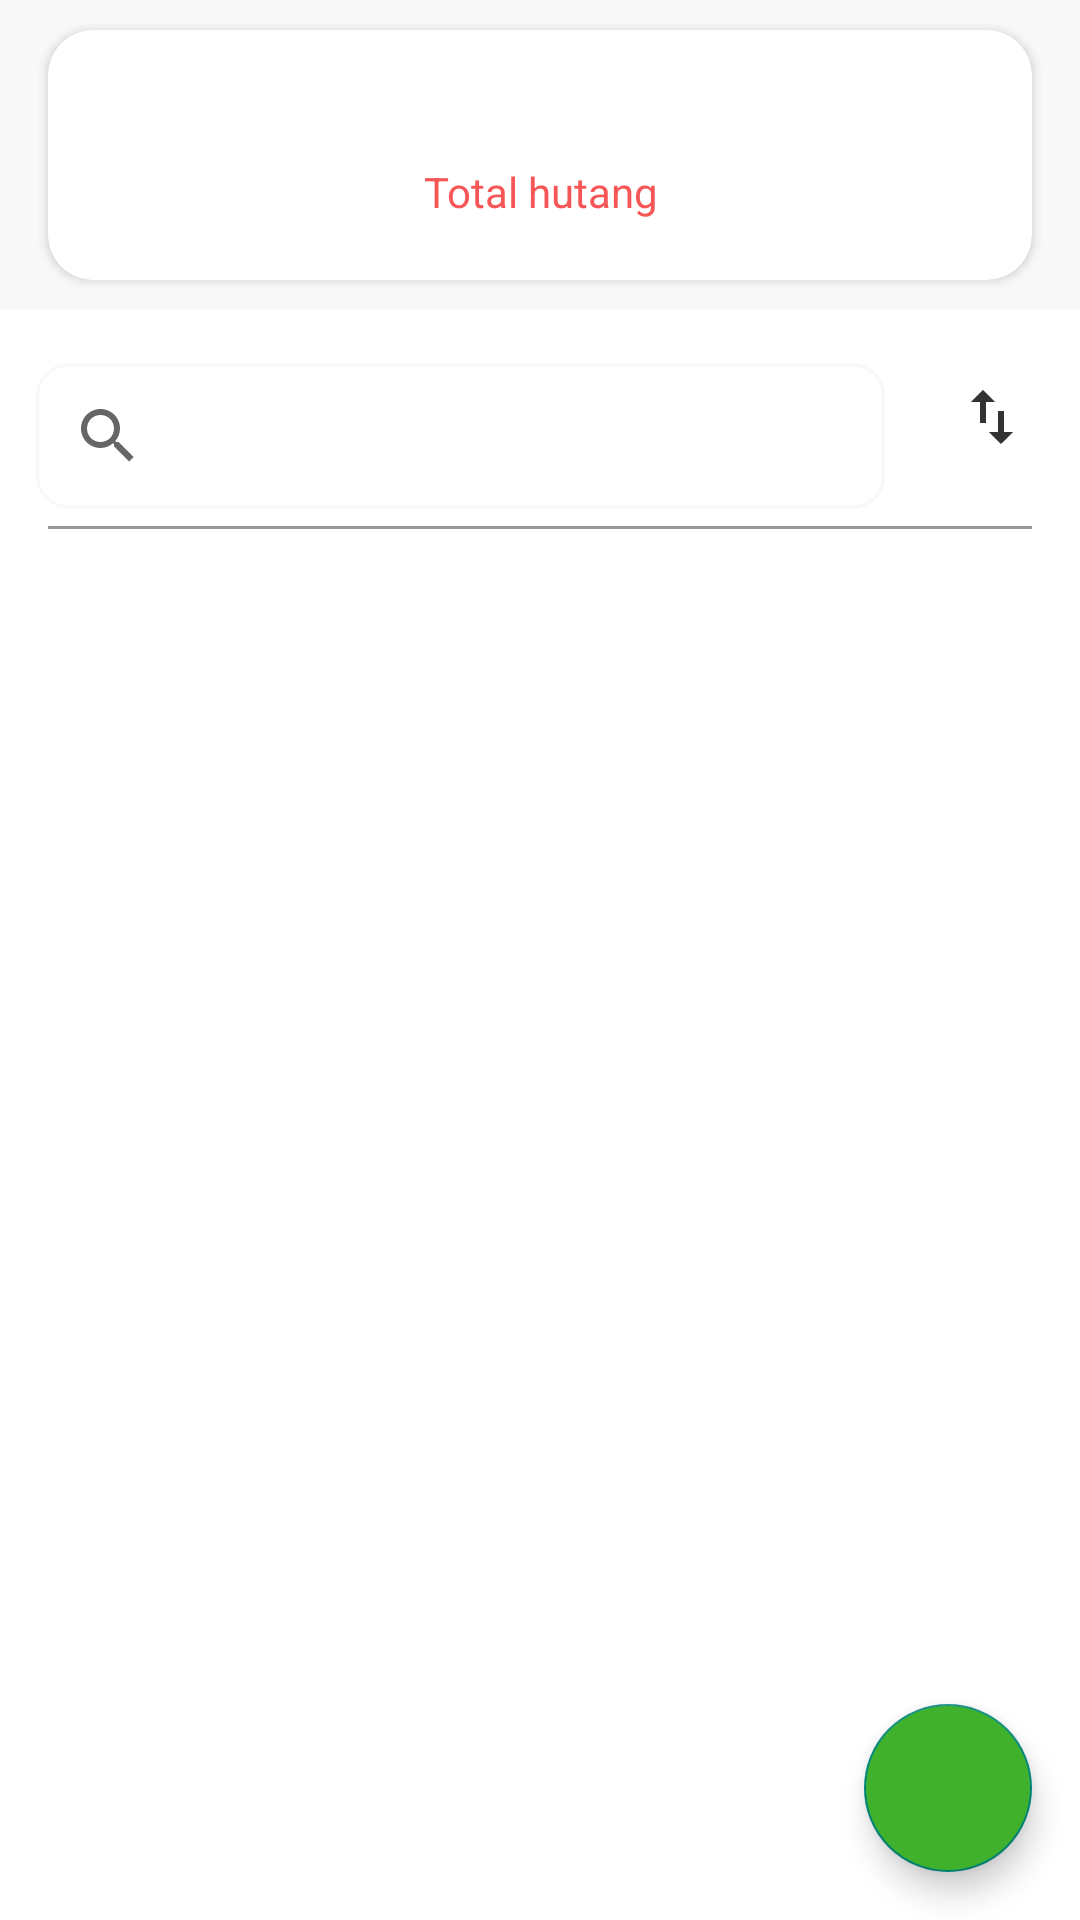

Icons on this 1080*1920 Android screen, each with the point to tap as point (x, y):
swap: point (992, 417)
